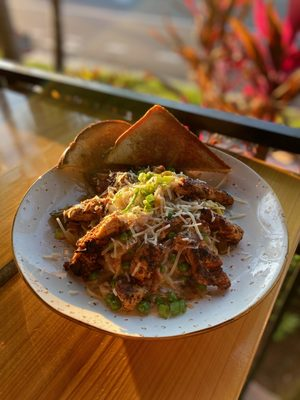curry: (0, 33, 299, 400)
